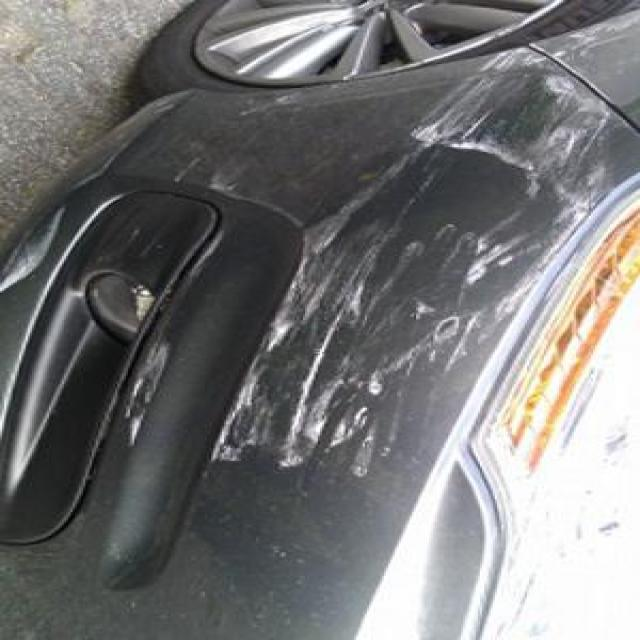scratch: (191, 23, 635, 510)
